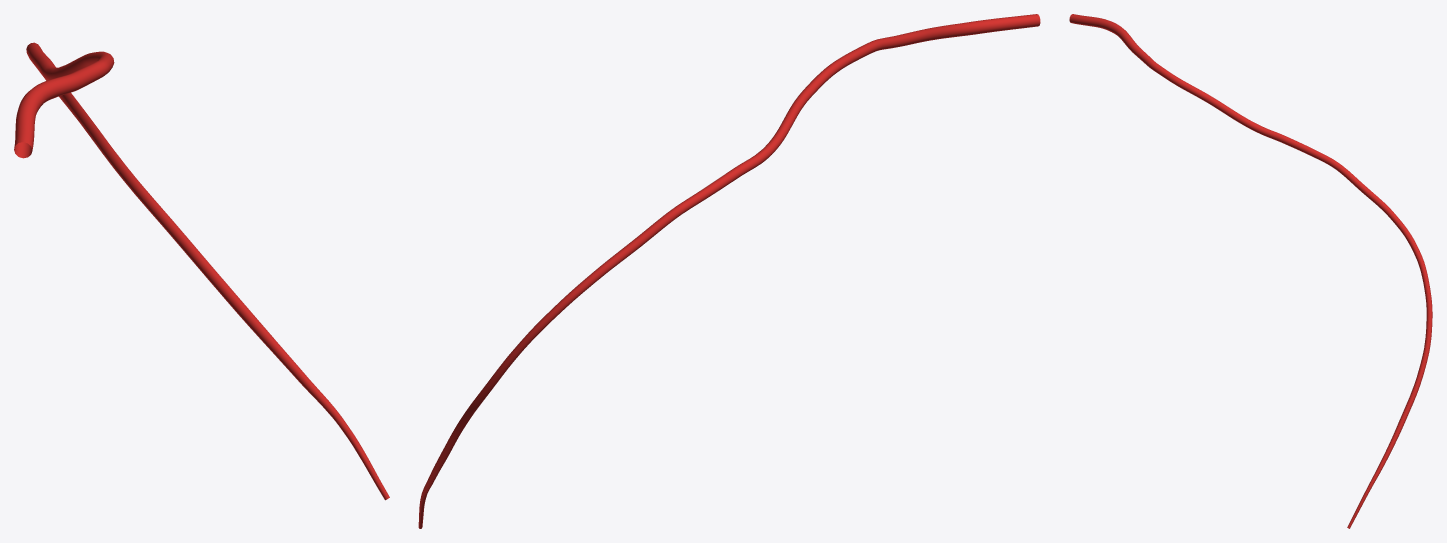
The model's file is circulatorio-subcostal-artery-l.glb.
The picture shows the model from 3 angles, left to right: view 1: azimuth 30°, elevation 25°; view 2: azimuth 150°, elevation 25°; view 3: azimuth 270°, elevation 25°; orthographic projection. The views are drawn at different scales.
Visible parts, largest first — view 1: Subcostal artery.l; view 2: Subcostal artery.l; view 3: Subcostal artery.l.
Part boxes in pixels (<box>): Subcostal artery.l: <box>14,42,389,500</box>; Subcostal artery.l: <box>418,14,1040,528</box>; Subcostal artery.l: <box>1069,14,1432,528</box>.
Size of the model in its own units: 0.0765 by 0.0815 by 0.0741.
